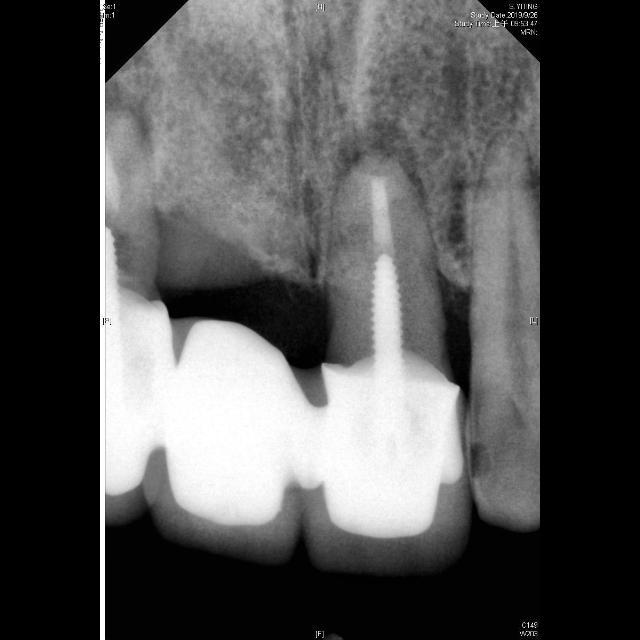tooth: (466, 135, 539, 530)
